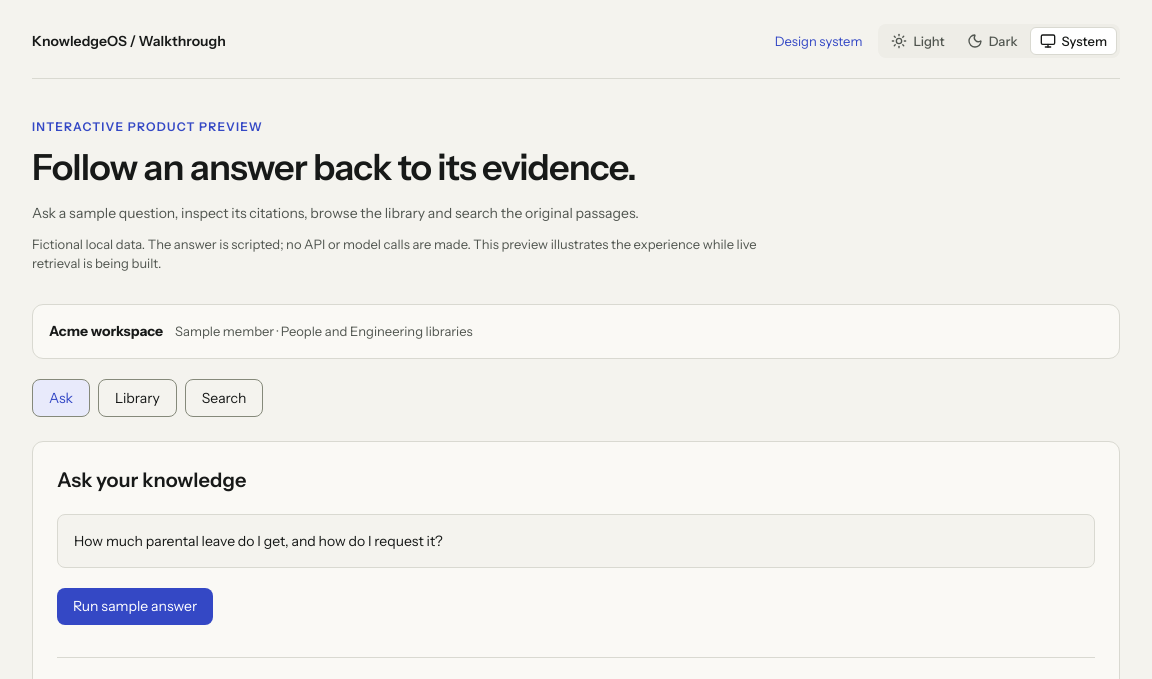
Test: demo walkthrough › inspects library evidence and keeps navigation basePath-neutral
Click the button "Library". click: x=137, y=398
box: x1=98 y1=379 x2=177 y2=417
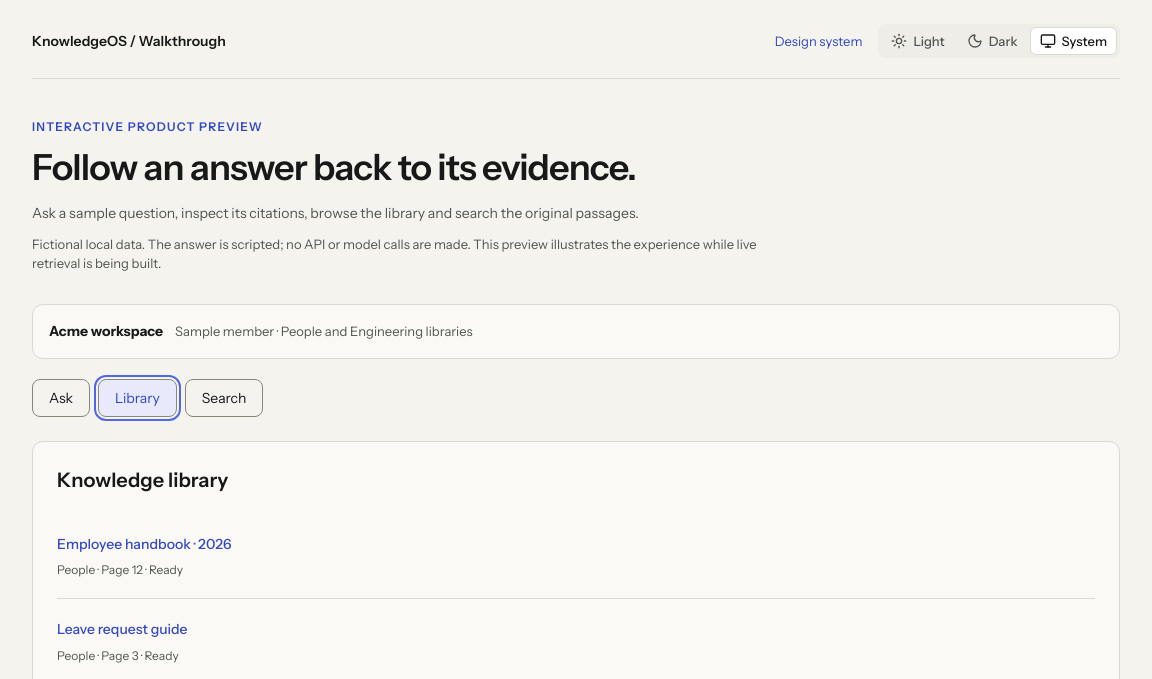
Click the button "Leave request guide". click: x=122, y=629
box: x1=57 y1=619 x2=188 y2=640
(page scrolled)
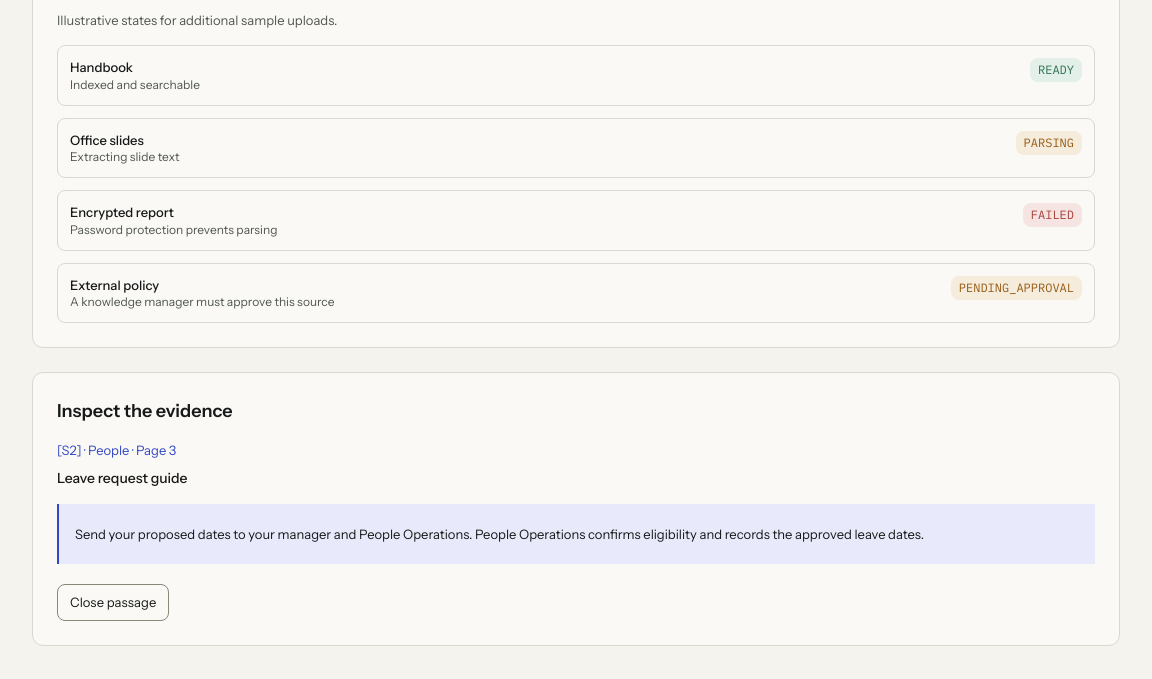
Now the element named "Source evidence" shows "Page 3", box x1=32 y1=372 x2=1120 y2=646
